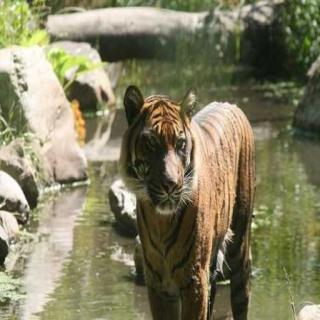Tiger: (69, 78, 312, 320)
